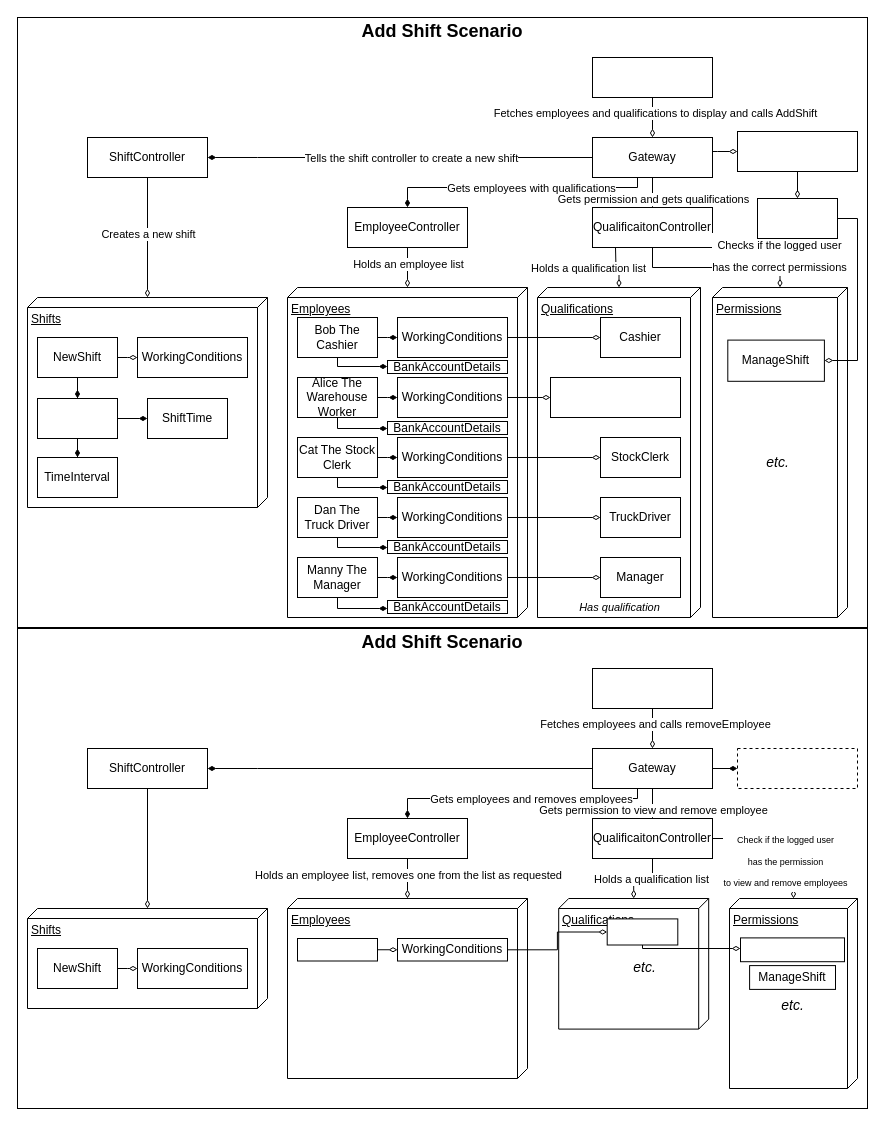
Some shapes in this 885 by 1126 pixel diagram are drawn without their labels. The centre of each missing label's shape, as x and y in pixels:
"Admin" goes at [337,949].
"CLI" goes at [652,688].
"HR" goes at [642,931].
"HR Qualification" goes at [797,218].
"Logged User" goes at [797,151].
"Logged User (Admin)" goes at [797,768].
"ManageEmployees" goes at [792,949].
"NICLI (And Related Pages)" goes at [652,77].
"ShiftId" goes at [77,418].
"WarehouseWorker" goes at [615,397].
